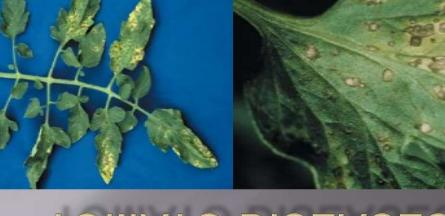Tomato Septoria leaf spot: (247, 0, 445, 183), (142, 96, 220, 177), (101, 0, 159, 78), (86, 97, 130, 186), (48, 0, 124, 46)
